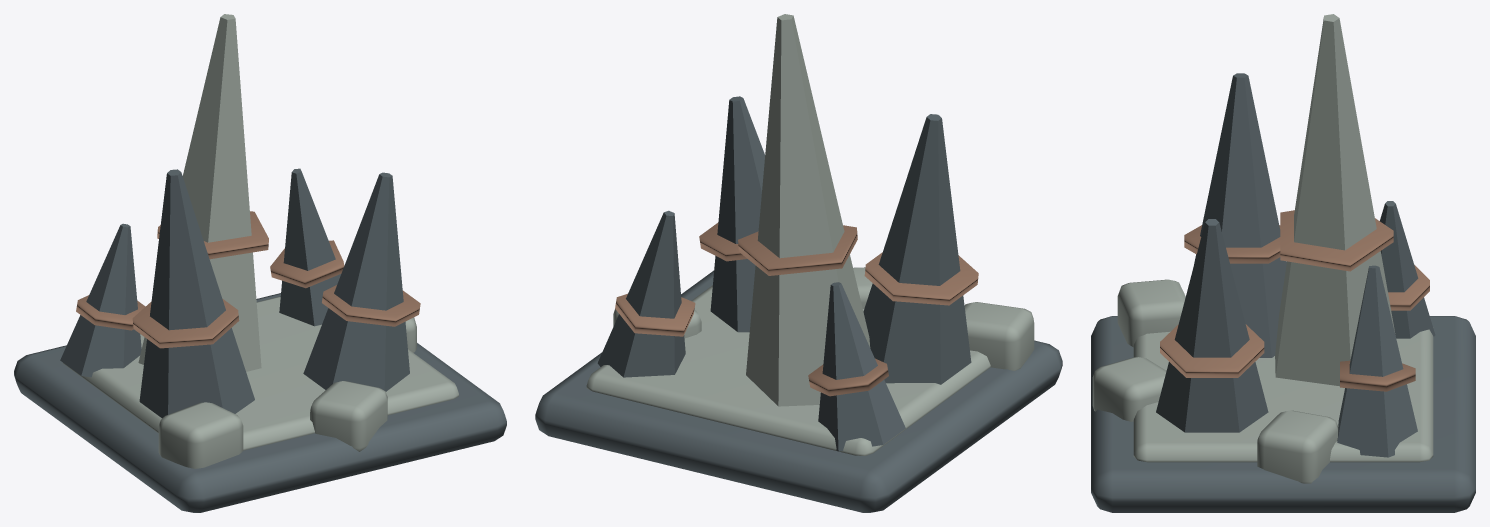
Rendered from basalt-spires.glb.
3 renders of one model, left to right at view 1: azimuth 30°, elevation 25°; view 2: azimuth 150°, elevation 25°; view 3: azimuth 270°, elevation 25°, orthographic. The views are drawn at different scales.
Visible parts, largest first — view 1: Basalt shelf, Polygonal basalt spire, Polygonal basalt spire.001, Basalt fractured ledge, Polygonal basalt spire.002, Polygonal basalt spire.004, Polygonal basalt spire.003, Basalt talus block, Basalt talus block.002, Basalt iron seam, Basalt iron seam.002, Basalt iron seam.003 (+2 smaller); view 2: Basalt shelf, Polygonal basalt spire.001, Polygonal basalt spire, Basalt fractured ledge, Polygonal basalt spire.002, Polygonal basalt spire.003, Polygonal basalt spire.004, Basalt talus block, Basalt iron seam, Basalt iron seam.001, Basalt iron seam.003, Basalt iron seam.004 (+1 smaller); view 3: Basalt shelf, Polygonal basalt spire.001, Basalt fractured ledge, Polygonal basalt spire.002, Polygonal basalt spire, Polygonal basalt spire.003, Basalt talus block.001, Basalt talus block.002, Basalt talus block, Polygonal basalt spire.004, Basalt iron seam.001, Basalt iron seam.002 (+3 smaller).
Part boxes in pixels (x1,y1,x2,y2): Basalt shelf: (14,293,506,512); Polygonal basalt spire: (139,169,254,418); Polygonal basalt spire.001: (138,14,261,371); Basalt fractured ledge: (63,296,458,450); Polygonal basalt spire.002: (303,172,409,391); Polygonal basalt spire.004: (60,223,141,377); Polygonal basalt spire.003: (279,168,340,326); Basalt talus block: (158,402,243,468); Basalt talus block.002: (310,381,387,451); Basalt iron seam: (132,299,239,348); Basalt iron seam.002: (322,285,420,326); Basalt iron seam.003: (270,240,344,288); Basalt shelf: (535,270,1062,512); Polygonal basalt spire.001: (746,14,870,406); Polygonal basalt spire: (863,114,971,384); Basalt fractured ledge: (586,285,990,455); Polygonal basalt spire.002: (710,96,765,332); Polygonal basalt spire.003: (597,210,685,377); Polygonal basalt spire.004: (818,282,905,451); Basalt talus block: (964,302,1034,370); Basalt iron seam: (864,252,978,305); Basalt iron seam.001: (738,225,857,275); Basalt iron seam.003: (615,293,695,336); Basalt iron seam.004: (808,358,888,396); Basalt shelf: (1091,316,1475,512); Polygonal basalt spire.001: (1275,14,1395,386); Basalt fractured ledge: (1133,327,1433,462); Polygonal basalt spire.002: (1156,219,1268,432); Polygonal basalt spire: (1194,73,1286,357); Polygonal basalt spire.003: (1337,265,1417,457); Basalt talus block.001: (1257,410,1338,483); Basalt talus block.002: (1092,357,1166,421); Basalt talus block: (1117,279,1185,347); Polygonal basalt spire.004: (1380,201,1435,338); Basalt iron seam.001: (1280,210,1393,271); Basalt iron seam.002: (1160,324,1264,377).
Size of the model in its own units: 1.7 by 1.92 by 1.62.
